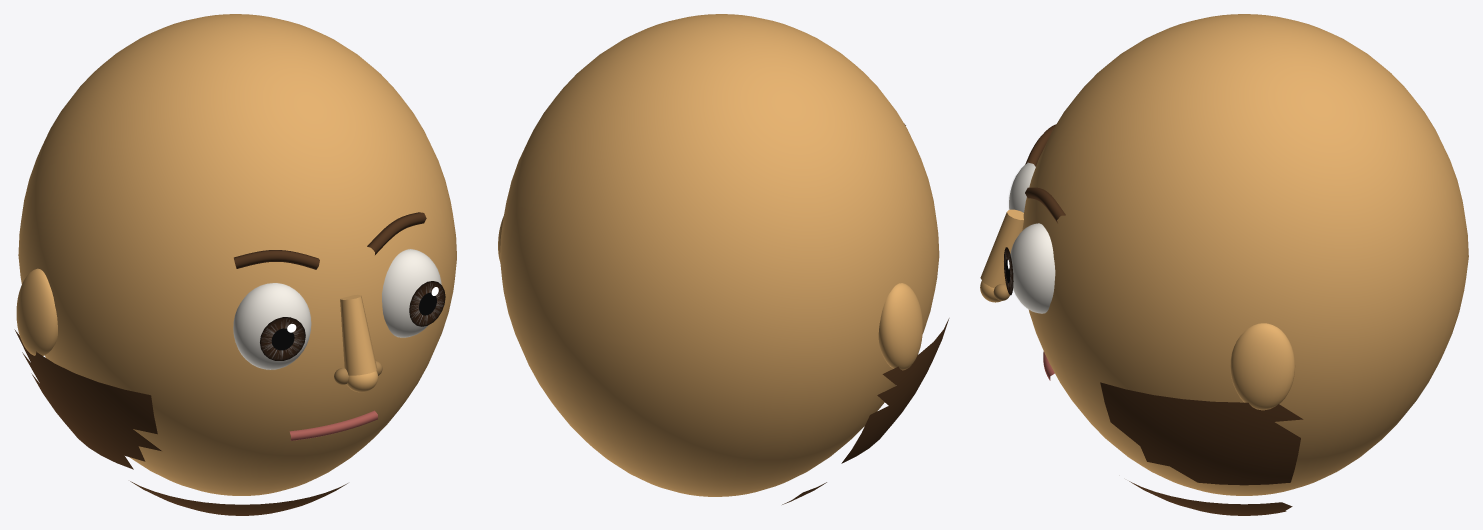
File: 08-mentonniere.glb
3 views of the same model, side by side, from view 1: azimuth 30°, elevation 25°; view 2: azimuth 150°, elevation 25°; view 3: azimuth 270°, elevation 25° (orthographic).
Bounding box in the file's own units: 0.3087 × 0.3332 × 0.3166.
Materials: 10 (1 with a texture image).
